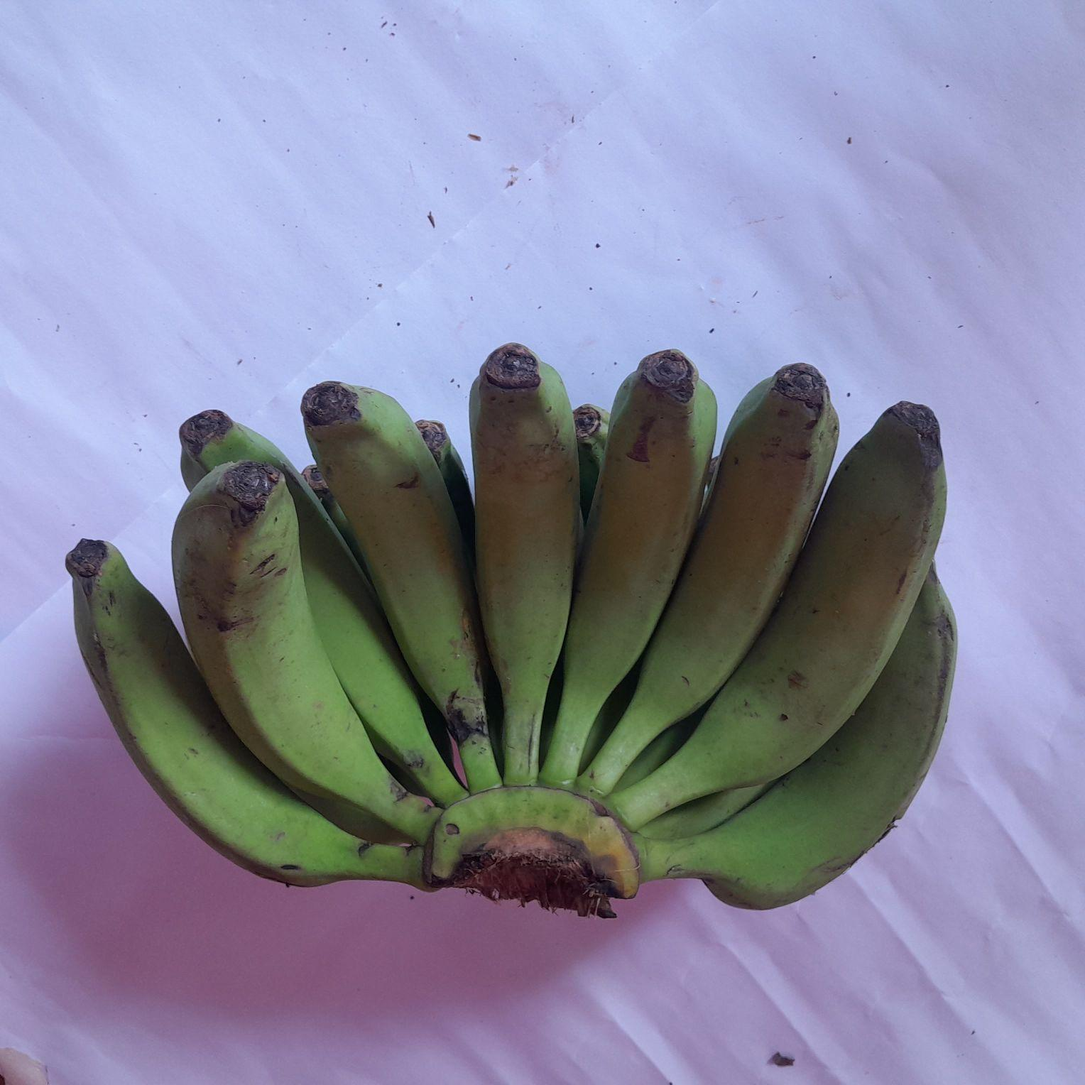Banana Unripe: (608, 403, 945, 831), (68, 540, 424, 888), (634, 572, 958, 909), (587, 364, 839, 793), (172, 462, 439, 841), (301, 381, 502, 793), (540, 350, 716, 786), (284, 468, 466, 805), (470, 343, 581, 783)
